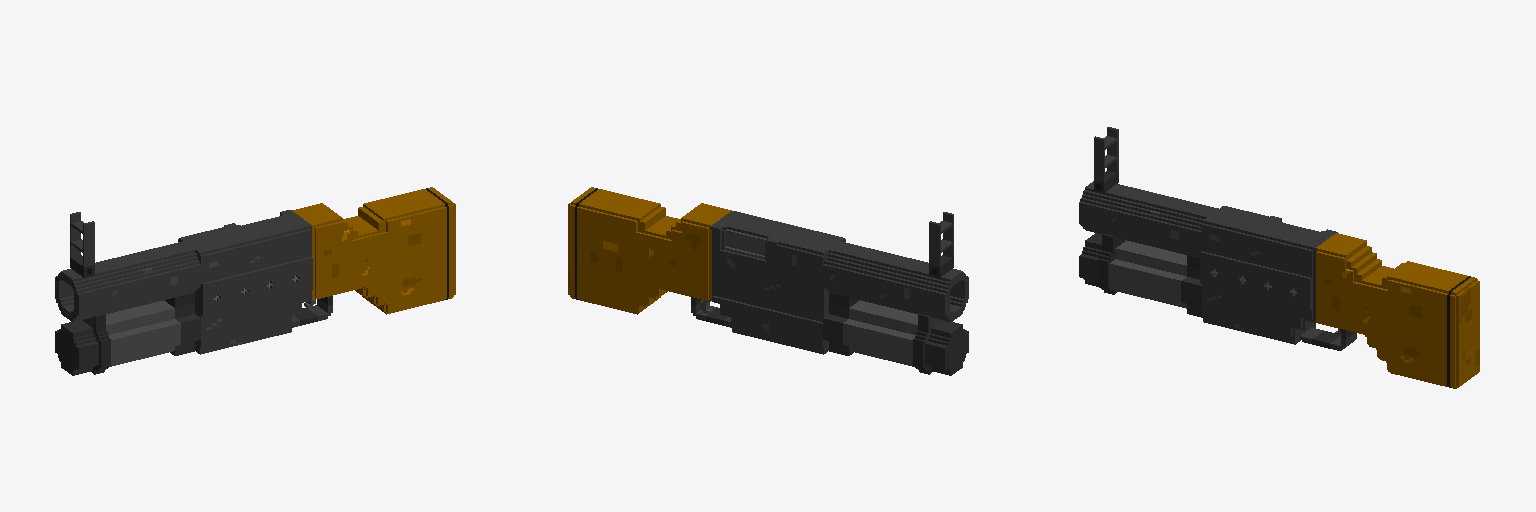
3 renders of one model, left to right at view 1: azimuth 30°, elevation 25°; view 2: azimuth 150°, elevation 25°; view 3: azimuth 330°, elevation 25°, orthographic.
Visible parts, largest first — view 1: object 1; view 2: object 1; view 3: object 1.
Boxes of the visible parts, x1,y1,x2,y2 form: object 1: [55, 187, 455, 375]; object 1: [568, 187, 968, 375]; object 1: [1079, 127, 1479, 388].
Bounding box in the file's own units: 14.8 × 6 × 1.8.
1 materials, 1 textured.